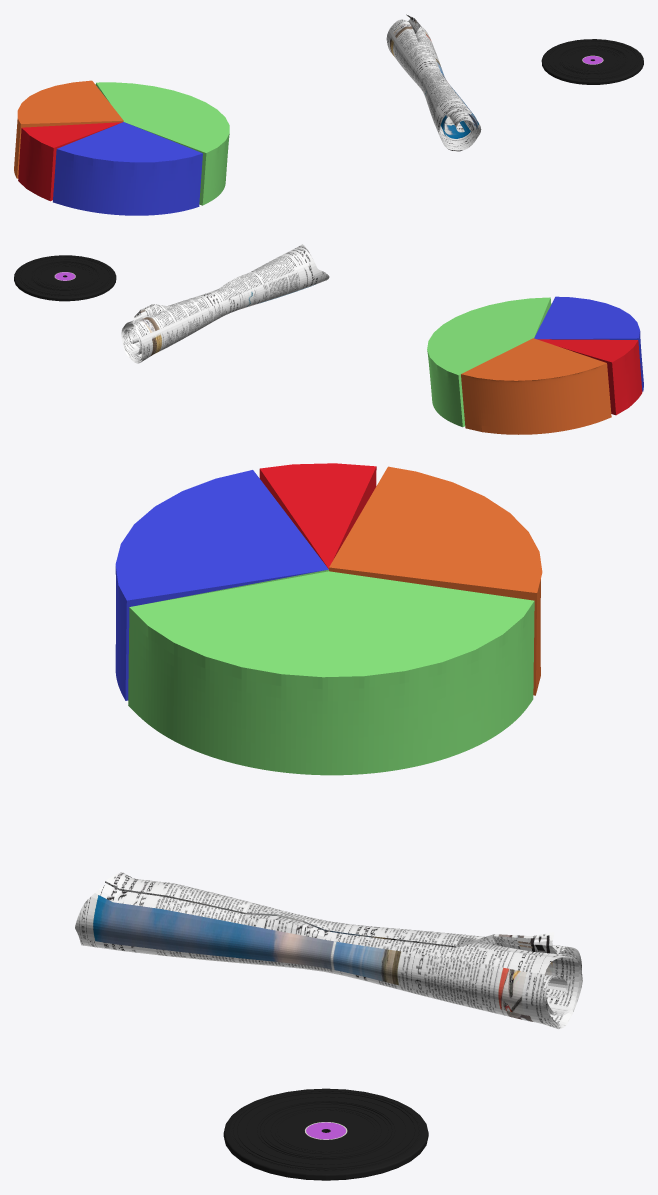
Rendered from bar-enviro-for-export-condensed.glb.
3 views of the same model, one above another, from view 1: azimuth 30°, elevation 25°; view 2: azimuth 150°, elevation 25°; view 3: azimuth 270°, elevation 25° (orthographic). The views are drawn at different scales.
Parts seen in each view (by area): view 1: pieChart, newspaper, vinyl; view 2: pieChart, newspaper, vinyl; view 3: pieChart, newspaper, vinyl.
Part boxes in pixels (left/top/right/bottom): pieChart: left=14, top=80, right=229, bottom=215; newspaper: left=386, top=14, right=481, bottom=151; vinyl: left=541, top=39, right=643, bottom=84; pieChart: left=427, top=296, right=643, bottom=434; newspaper: left=121, top=244, right=329, bottom=363; vinyl: left=14, top=255, right=116, bottom=301; pieChart: left=115, top=463, right=542, bottom=775; newspaper: left=75, top=872, right=582, bottom=1029; vinyl: left=223, top=1088, right=428, bottom=1180.
Bounding box in the file's own units: 2.06 × 0.23 × 0.7436.
8 materials, 1 textured.
